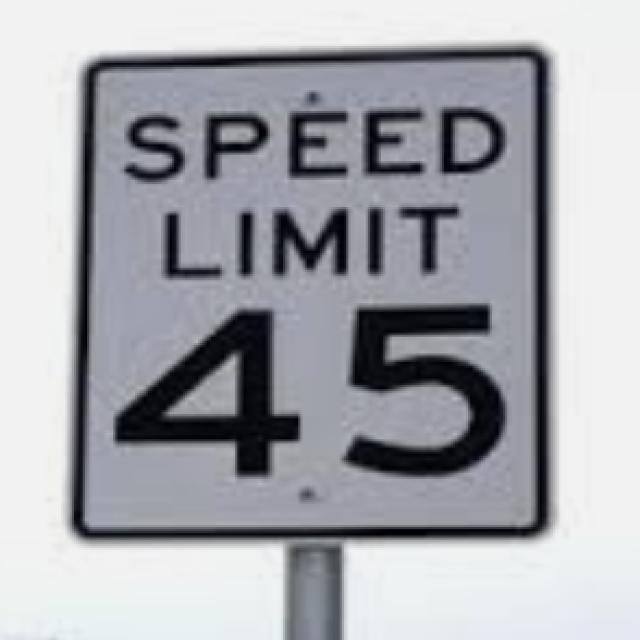speedLimit45: (79, 65, 537, 522)
